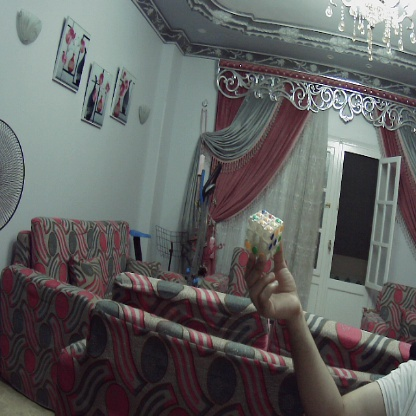Rubix Cube: (245, 207, 285, 259)
